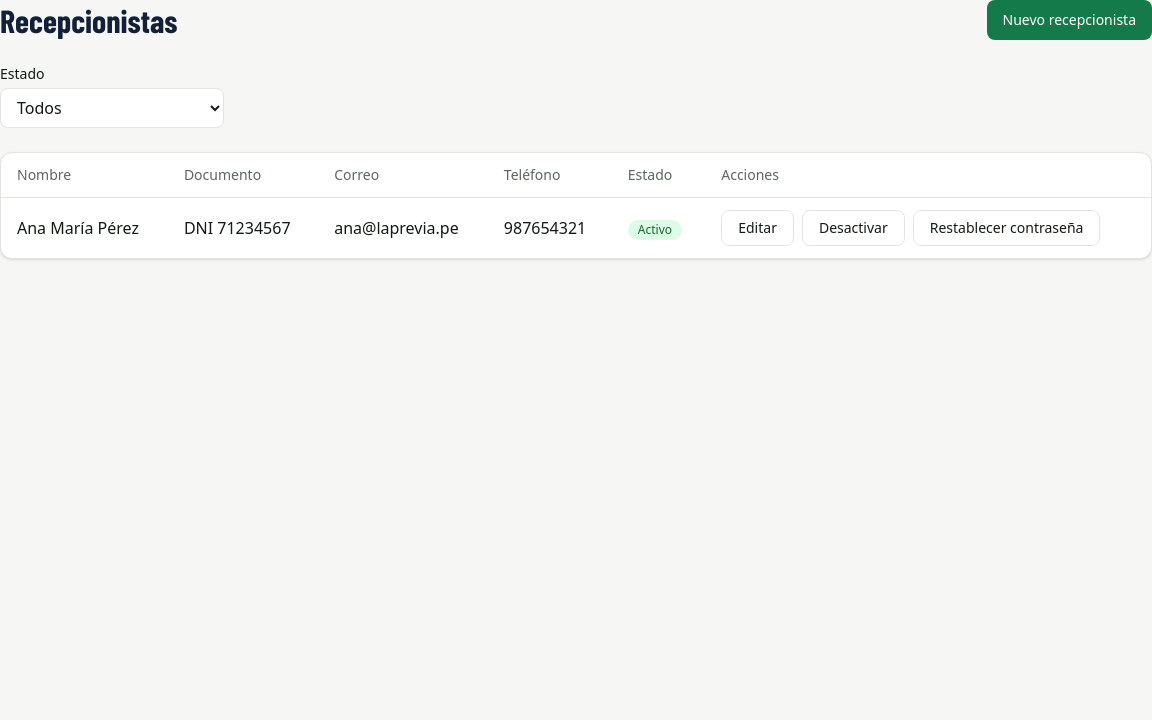
Scenario: Recepcionistas › restablece la contraseña desde el modal y avisa con un Toast de éxito
Click the button "Restablecer contraseña".
click(1007, 228)  # box [913,210,1100,246]
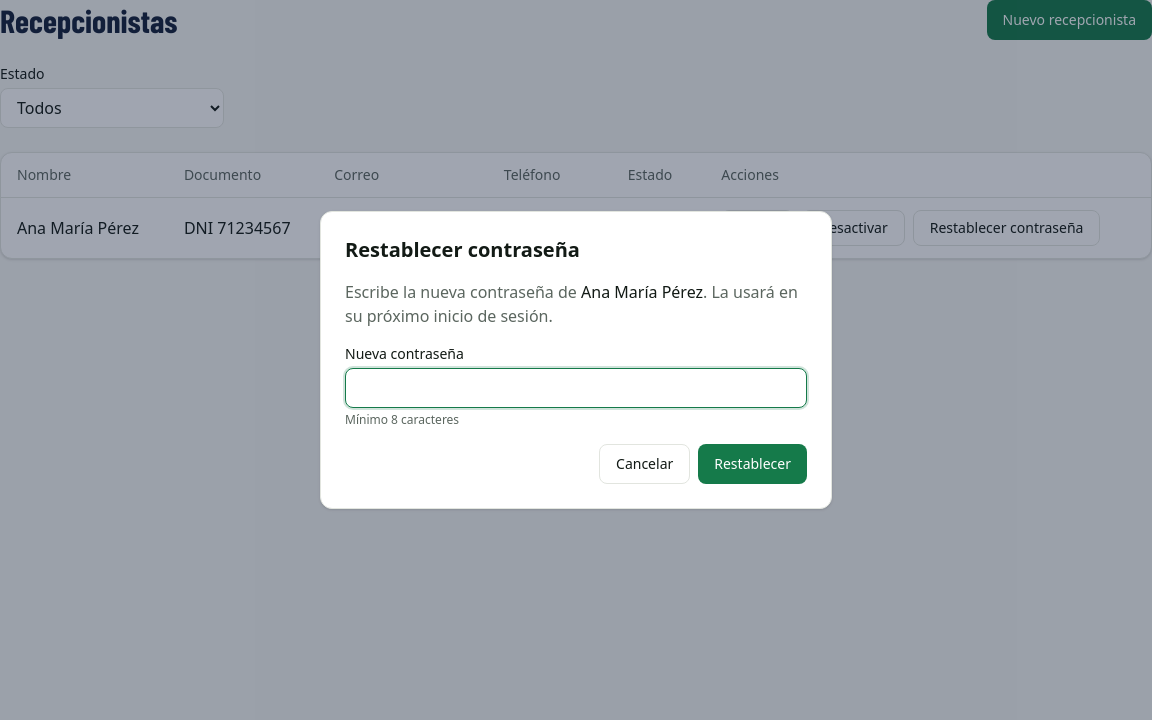
Now the heading "Restablecer contraseña" is shown, box [345,236,580,263]
Now the text "La usará en su próximo inicio de sesión" is shown, box [345,281,798,327]
Type "NuevaClave2026" into the password field labelled "Nueva contraseña".
click(576, 388); type("NuevaClave2026")  # box [345,368,807,408]
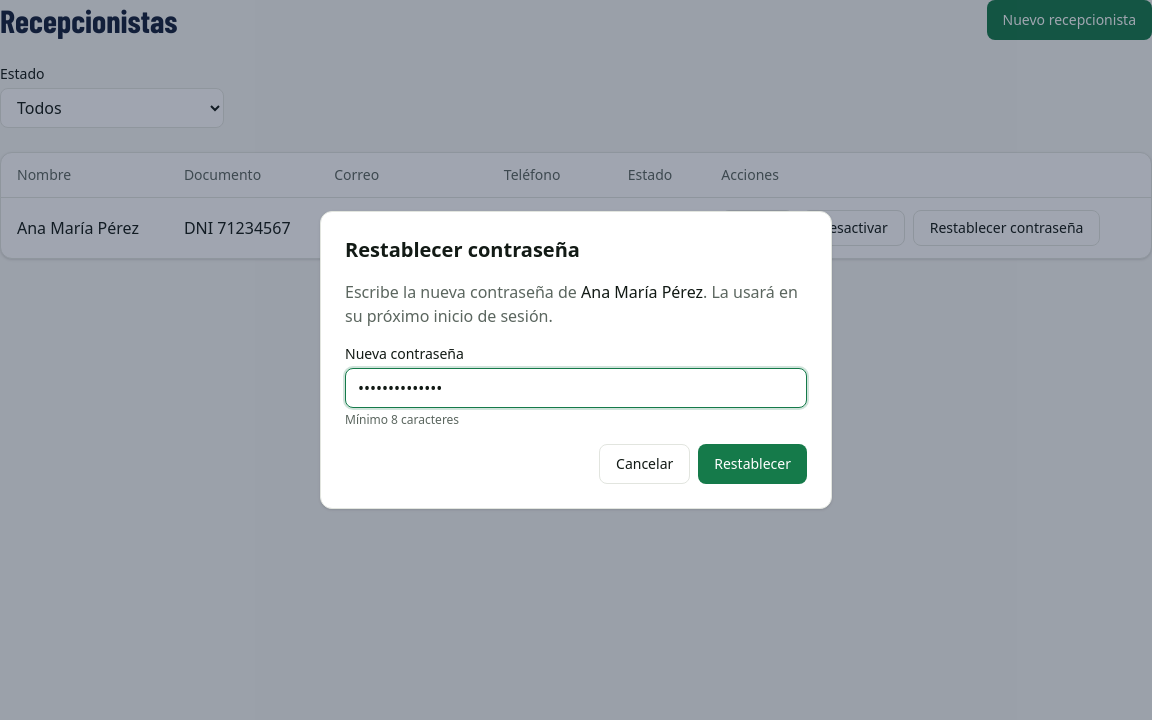
Click the button "Restablecer".
click(753, 464)  # box [698,444,807,484]
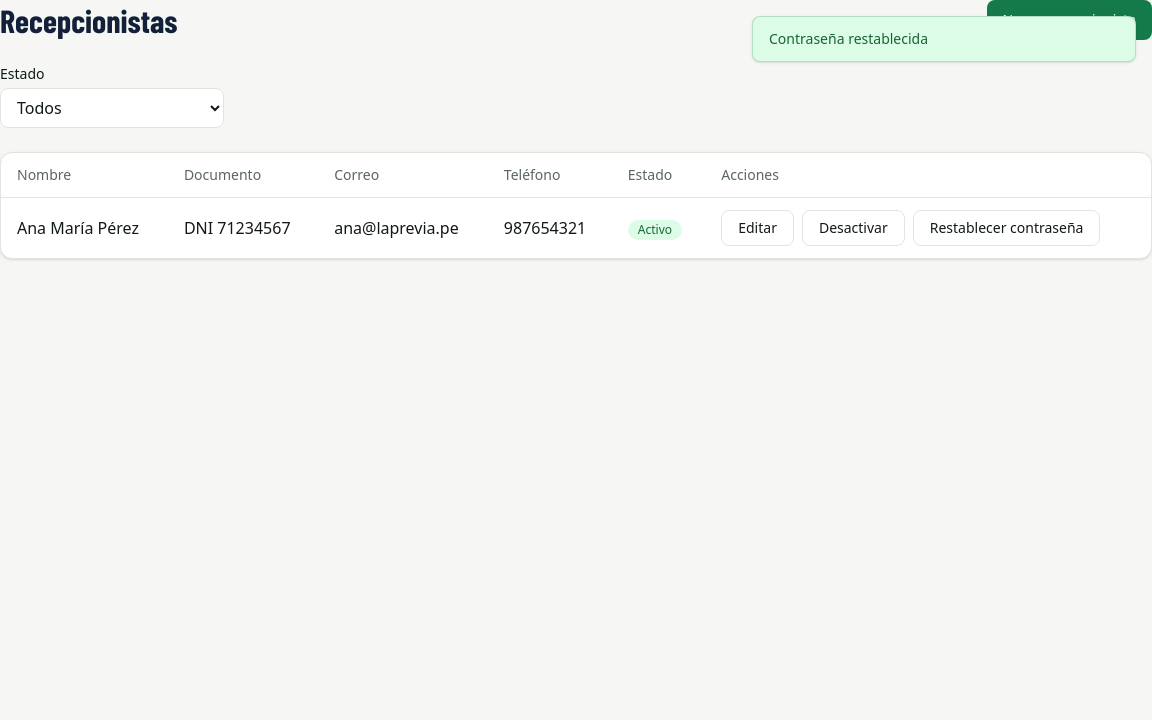
Now the message reads "Contraseña restablecida", box [769,29,928,48]
Now the dialog is gone
